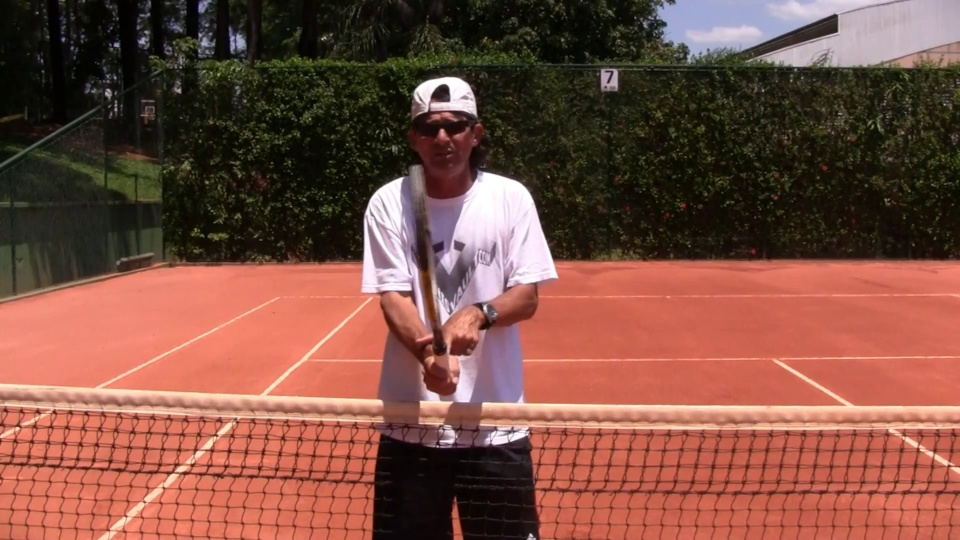person: (359, 74, 564, 540)
